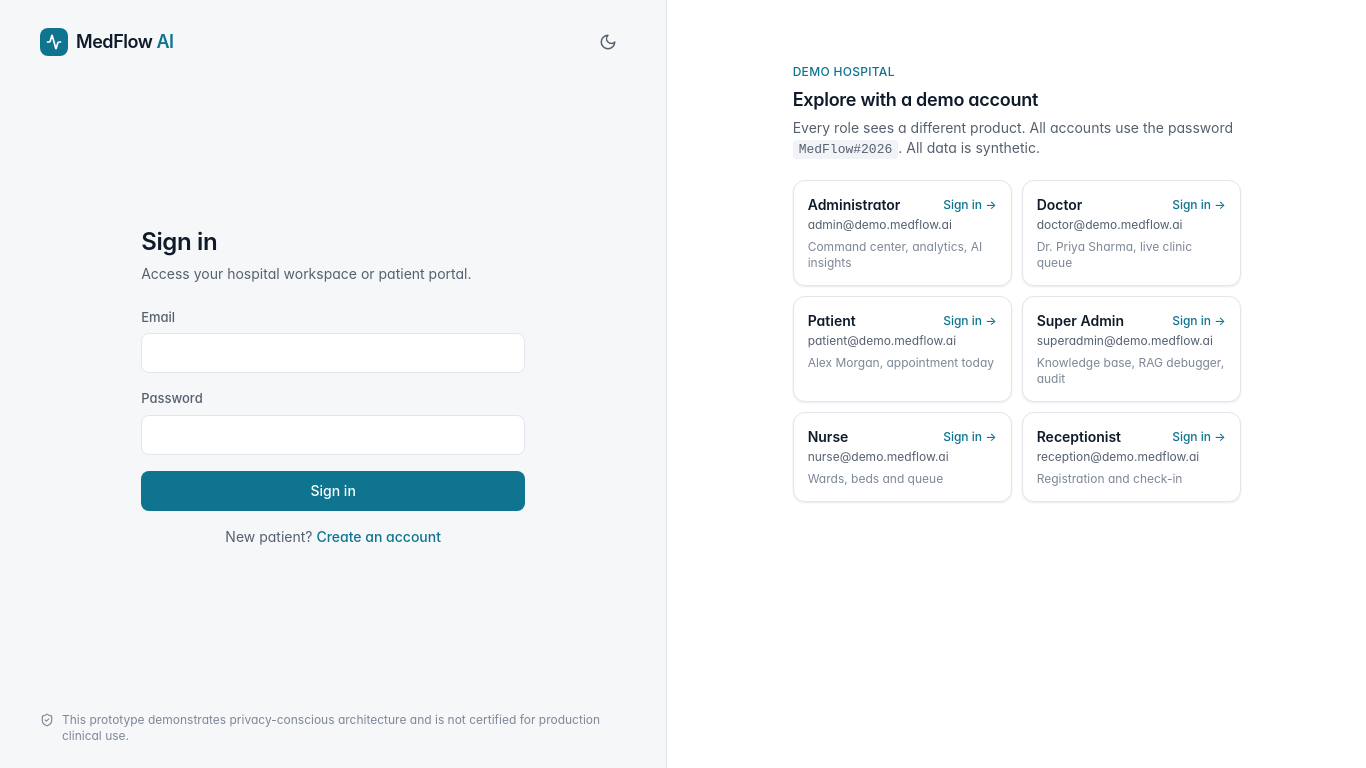
Scenario: login form › signs in and lands on the role home
Type "admin@demo.medflow.ai" into the field labelled "Email".
click(333, 353); type("admin@demo.medflow.ai")  # box [141,333,525,373]
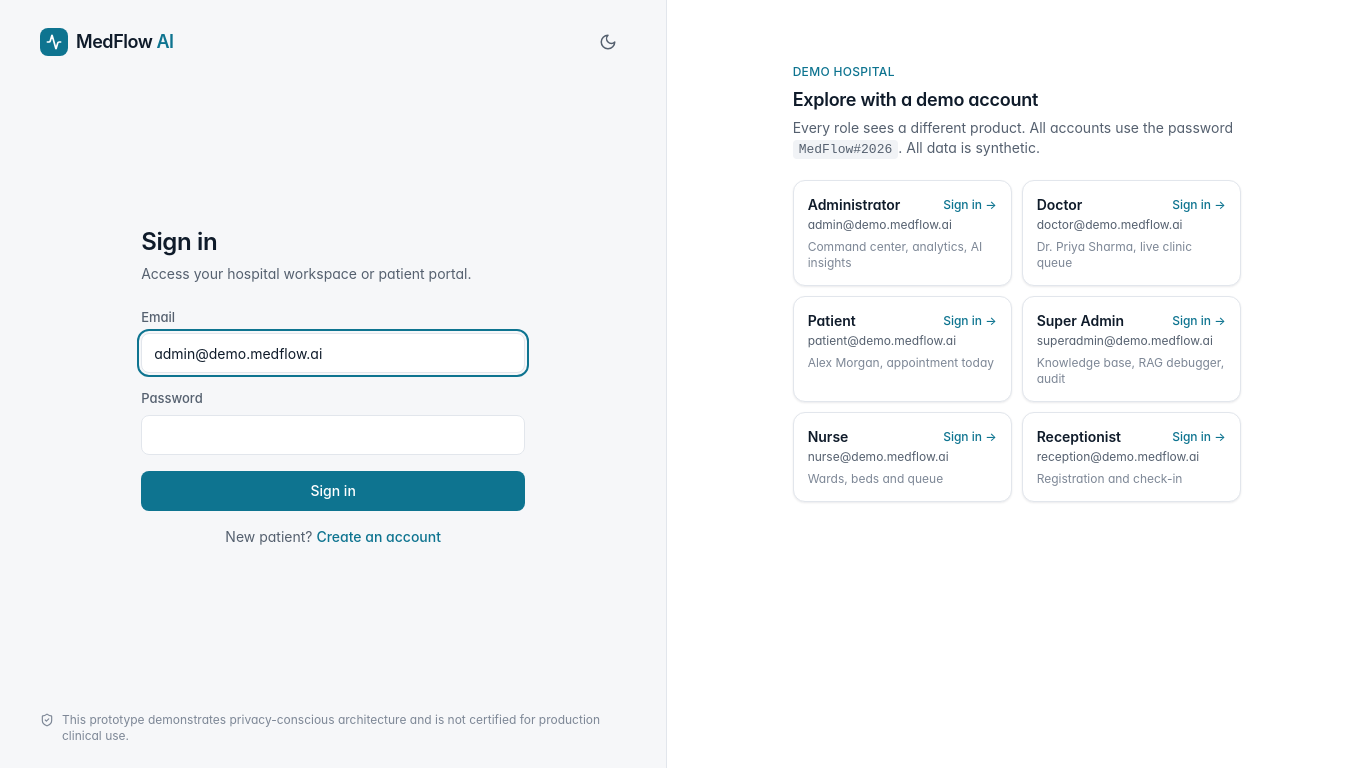
Type "MedFlow#2026" into the password field labelled "Password".
click(333, 434); type("MedFlow#2026")  # box [141,414,525,454]
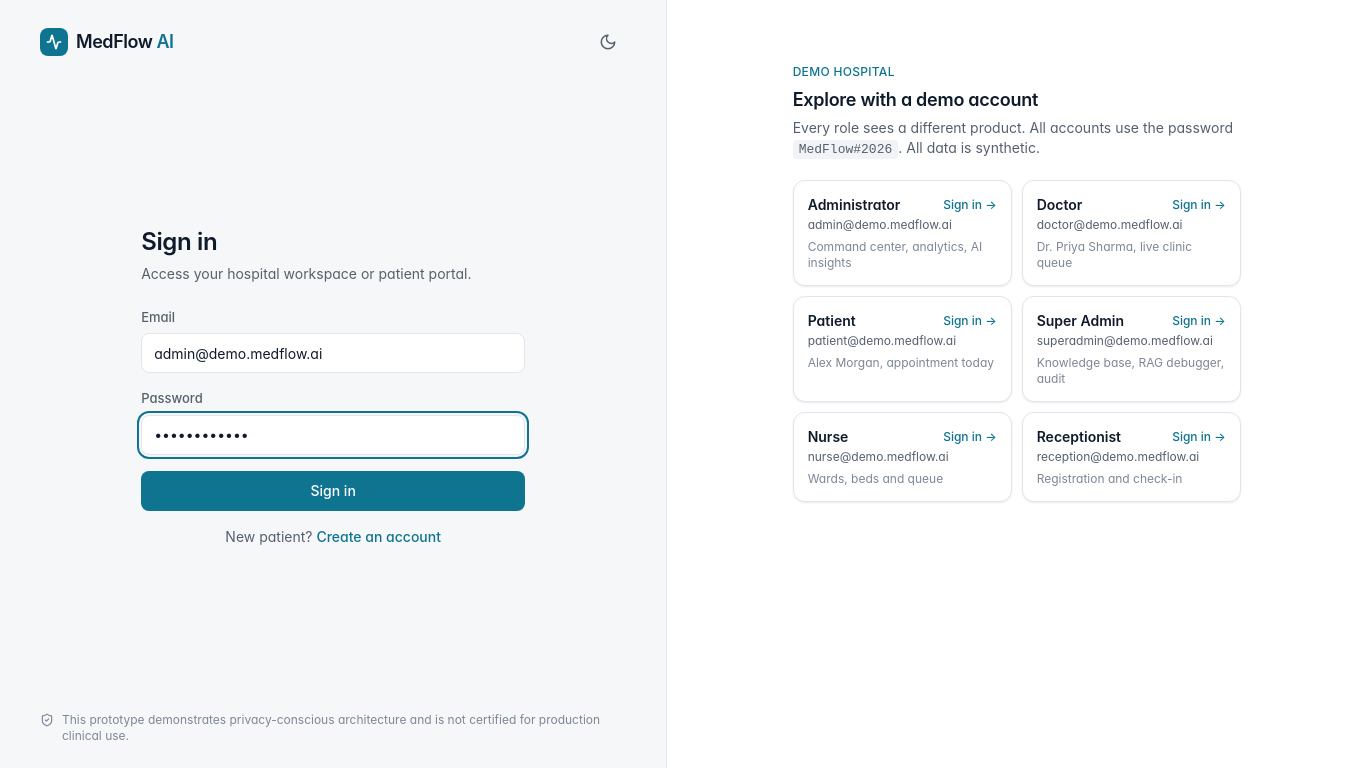
Click the button "Sign in".
click(333, 490)  # box [141,470,525,510]
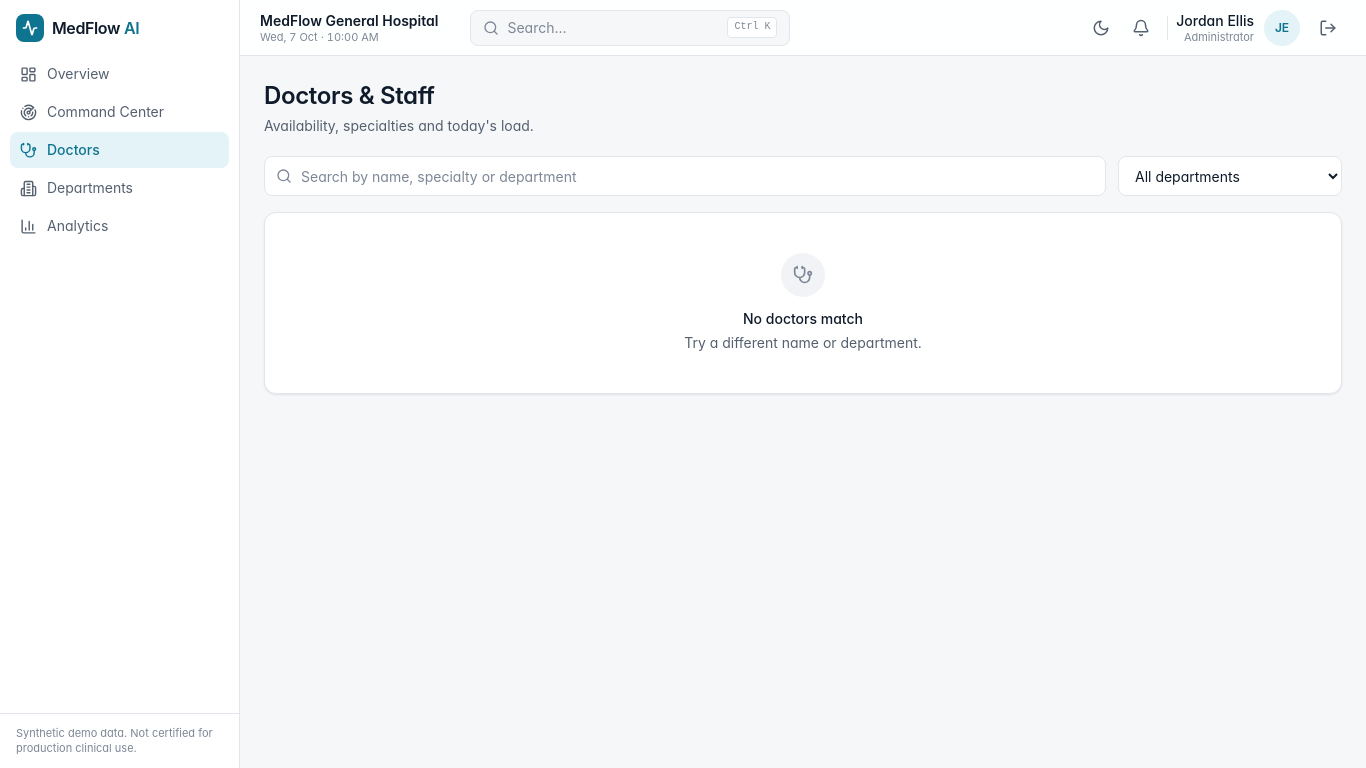
Expected: the heading "Doctors & Staff" is shown, [264,81,435,110]
